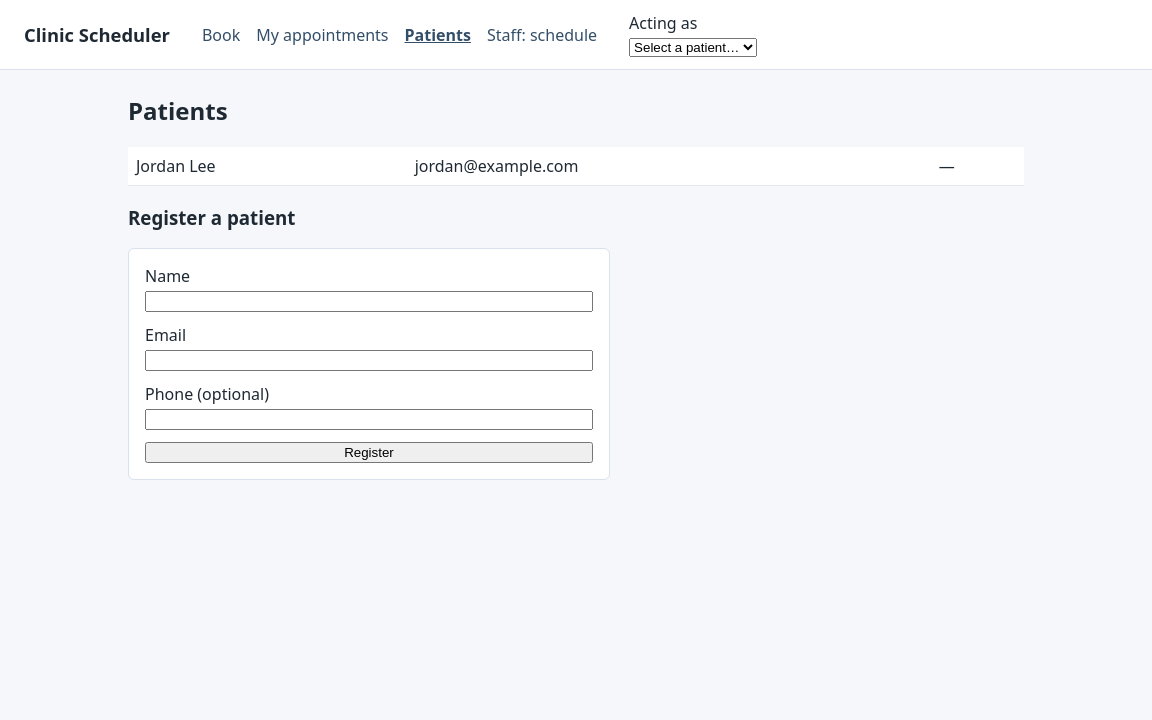
Scenario: PatientsPage › registers a patient and makes them the current patient
Expected: the row with test id "patient-row-pat_1" is shown, [128,147,1024,185]
Type "Sam Patel" into the field with test id "patient-name-input" at (369, 302), box [145,291,593,312]
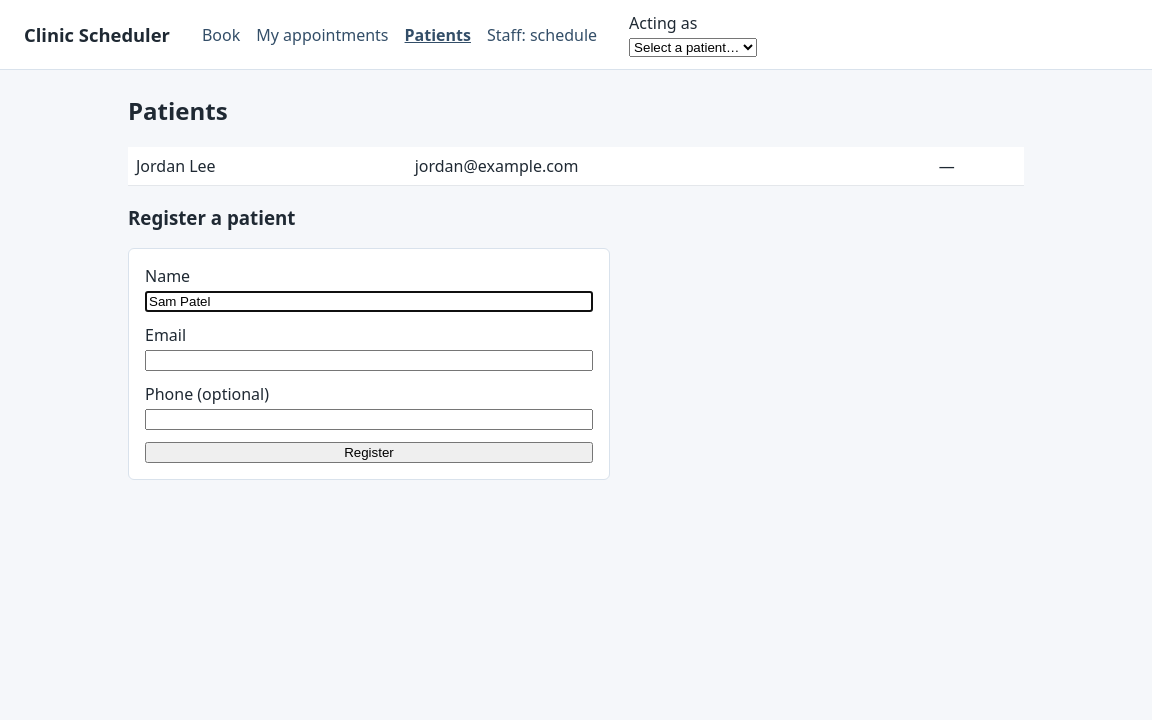
Type "sam@example.com" into the field with test id "patient-email-input" at (369, 361), box [145,350,593,371]
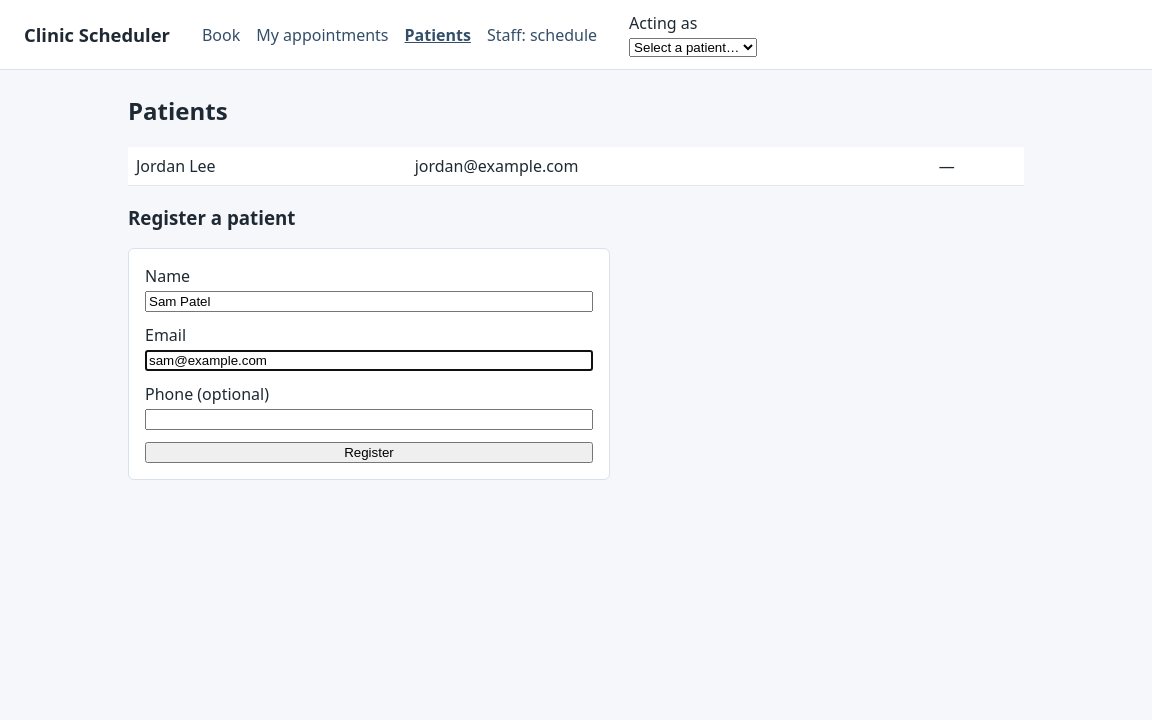
Click the button with test id "patient-submit" at (369, 453), box [145,442,593,463]
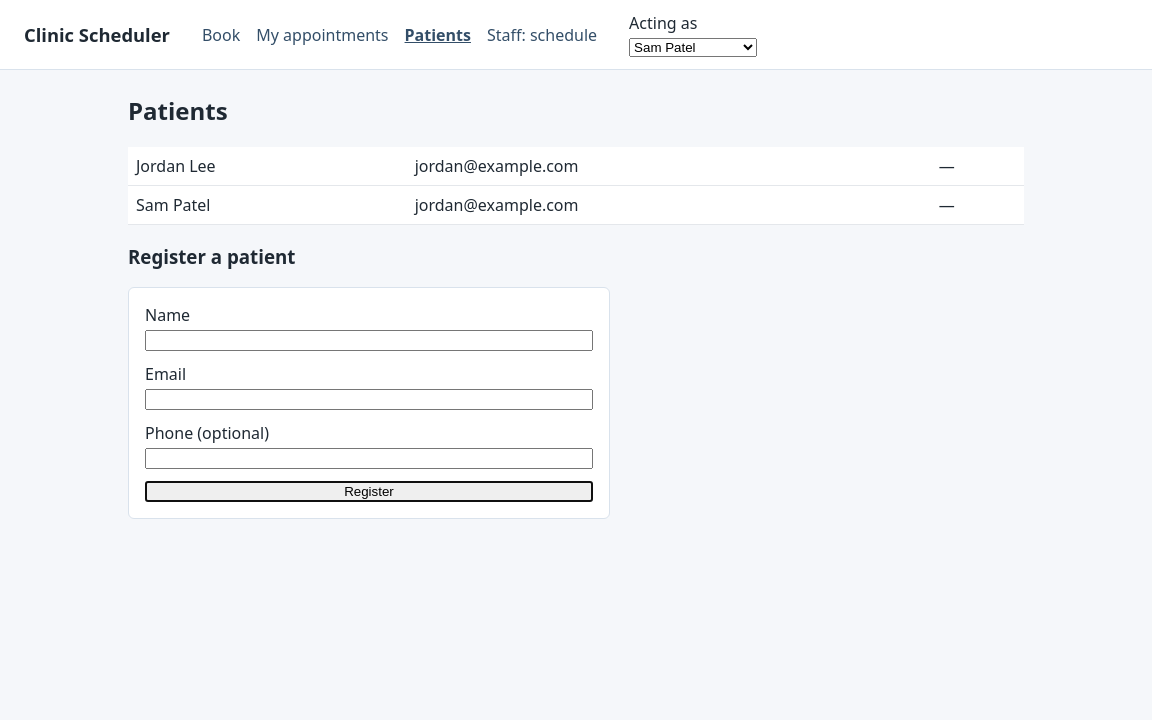
Result: the row with test id "patient-row-pat_2" is shown at [128,185,1024,224]
Result: the dropdown with test id "current-patient-select" shows "Sam Patel" at [629,38,757,57]
